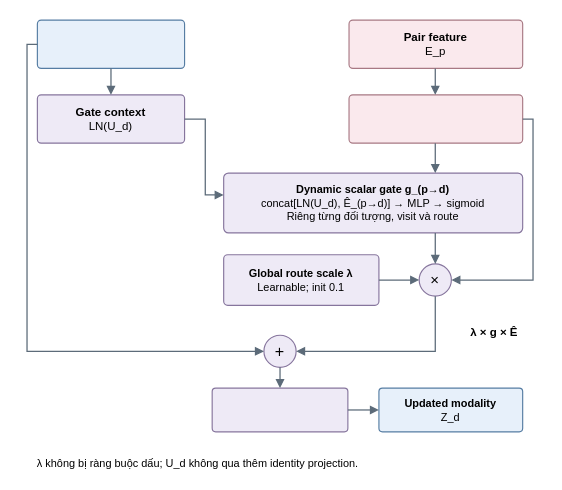
The diagram is 562 pixels wide and 490 high, and some of its shapes have lost their labels. Each missing label, with the box of its shape:
Directed projection Linear + LN → Ê_(p→d): (348, 94, 523, 143)
LayerNorm: (211, 387, 348, 432)
Original modality U_d (identity): (36, 19, 185, 68)
